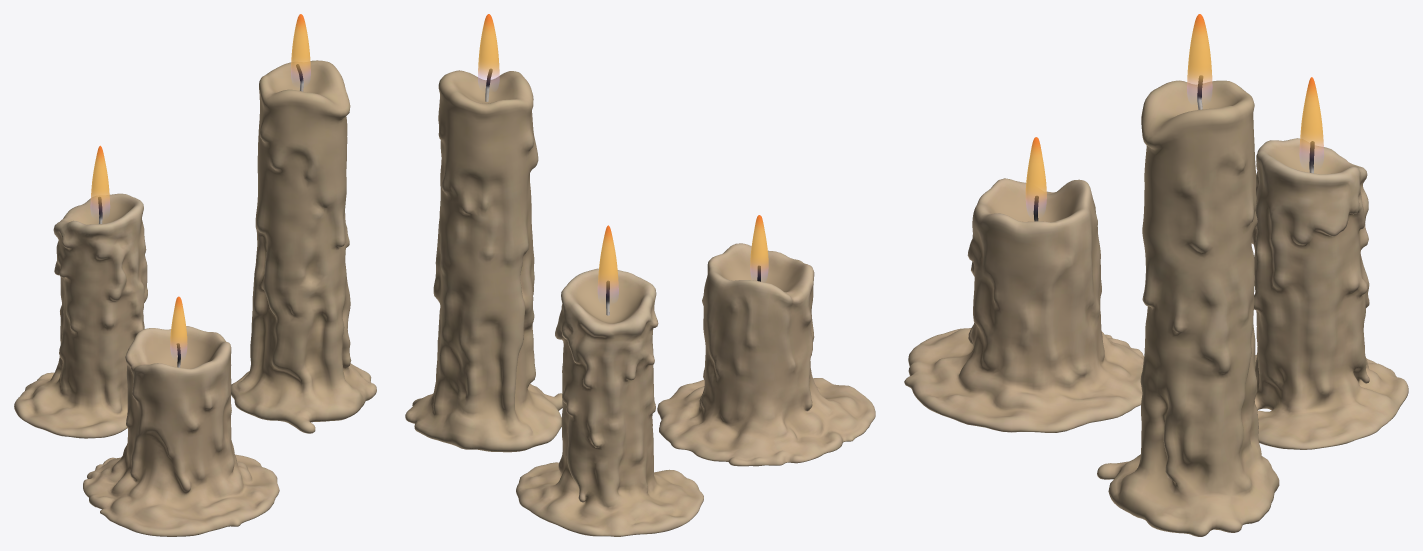
The model's file is candles.glb.
The picture shows the model from 3 angles, left to right: view 1: azimuth 30°, elevation 25°; view 2: azimuth 150°, elevation 25°; view 3: azimuth 270°, elevation 25°; orthographic projection. The views are drawn at different scales.
Visible parts, largest first — view 1: Object_4, Object_12, Object_8, mesh_8, mesh_7, mesh_6; view 2: Object_4, Object_12, Object_8, mesh_8, mesh_7, mesh_6; view 3: Object_4, Object_12, Object_8, mesh_8, mesh_7, mesh_6.
Boxes of the visible parts, x1,y1,x2,y2 form: Object_4: (231, 60, 376, 433); Object_12: (83, 326, 279, 536); Object_8: (14, 193, 147, 438); mesh_8: (291, 14, 310, 82); mesh_7: (90, 145, 109, 214); mesh_6: (170, 296, 187, 356); Object_4: (405, 69, 562, 452); Object_12: (657, 243, 875, 466); Object_8: (516, 268, 703, 536); mesh_8: (478, 14, 499, 87); mesh_7: (597, 225, 618, 299); mesh_6: (750, 215, 768, 279); Object_4: (1097, 75, 1279, 536); Object_12: (904, 178, 1144, 432); Object_8: (1251, 138, 1408, 449); mesh_8: (1187, 14, 1212, 99); mesh_7: (1299, 77, 1323, 163); mesh_6: (1025, 137, 1046, 213).
Size of the model in its own units: 0.2037 by 0.2194 by 0.2083.
Materials: 4 (4 with a texture image).
